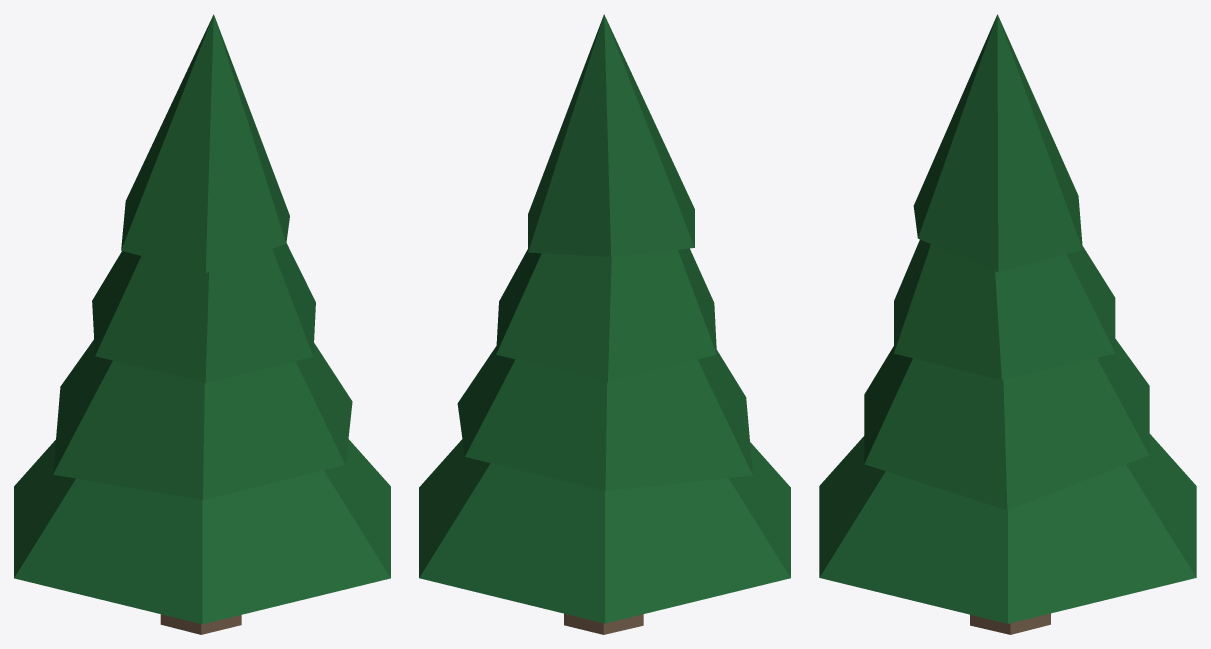
File: Pine2.fbx
The picture shows the model from 3 angles, left to right: view 1: azimuth 30°, elevation 25°; view 2: azimuth 150°, elevation 25°; view 3: azimuth 270°, elevation 25°; orthographic projection.
Parts seen in each view (by area): view 1: mergedBlocks; view 2: mergedBlocks; view 3: mergedBlocks.
Boxes of the visible parts, x1,y1,x2,y2 form: mergedBlocks: [14, 14, 390, 634]; mergedBlocks: [419, 14, 790, 634]; mergedBlocks: [819, 14, 1196, 634].
Bounding box in the file's own units: 26 × 39.85 × 22.52.
